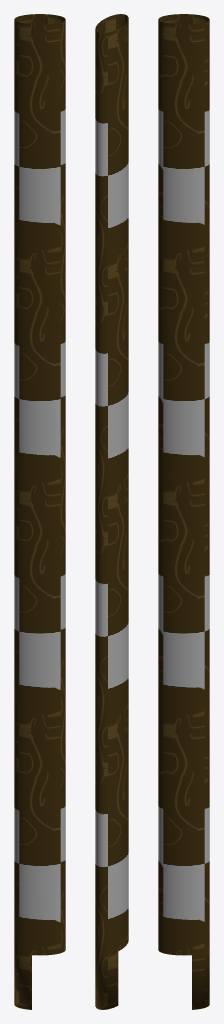
The model's file is bigtree.fbx.
3 renders of one model, left to right at view 1: azimuth 90°, elevation 25°; view 2: azimuth 150°, elevation 25°; view 3: azimuth 270°, elevation 25°, orthographic.
Parts seen in each view (by area): view 1: pCylinder1; view 2: pCylinder1; view 3: pCylinder1.
Boxes of the visible parts, x1,y1,x2,y2 form: pCylinder1: [14, 14, 65, 1009]; pCylinder1: [95, 14, 128, 1009]; pCylinder1: [158, 14, 209, 1009].
Size of the model in its own units: 2 by 86.18 by 4.07.
